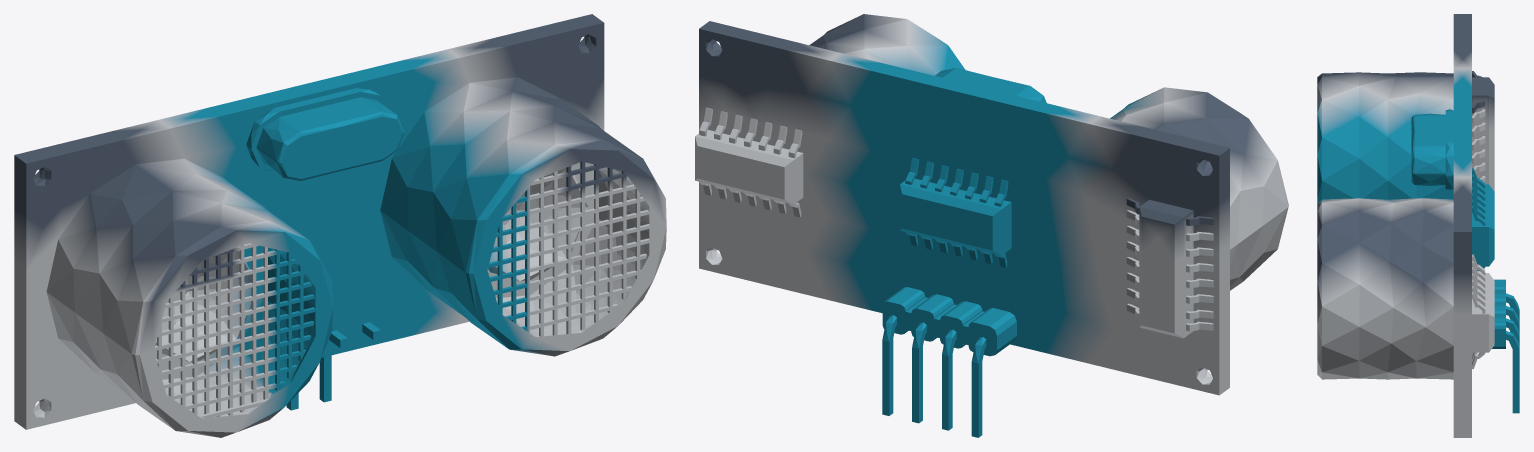
3 renders of one model, left to right at view 1: azimuth 30°, elevation 25°; view 2: azimuth 150°, elevation 25°; view 3: azimuth 270°, elevation 25°, orthographic. The views are drawn at different scales.
Parts seen in each view (by area): view 1: Created by Gmsh; view 2: Created by Gmsh; view 3: Created by Gmsh.
Part boxes in pixels (x1=…): Created by Gmsh: x1=14, y1=14, x2=666, y2=437; Created by Gmsh: x1=695, y1=14, x2=1288, y2=437; Created by Gmsh: x1=1317, y1=14, x2=1519, y2=437.
Size of the model in its own units: 0.6817 by 0.393 by 0.2668.
